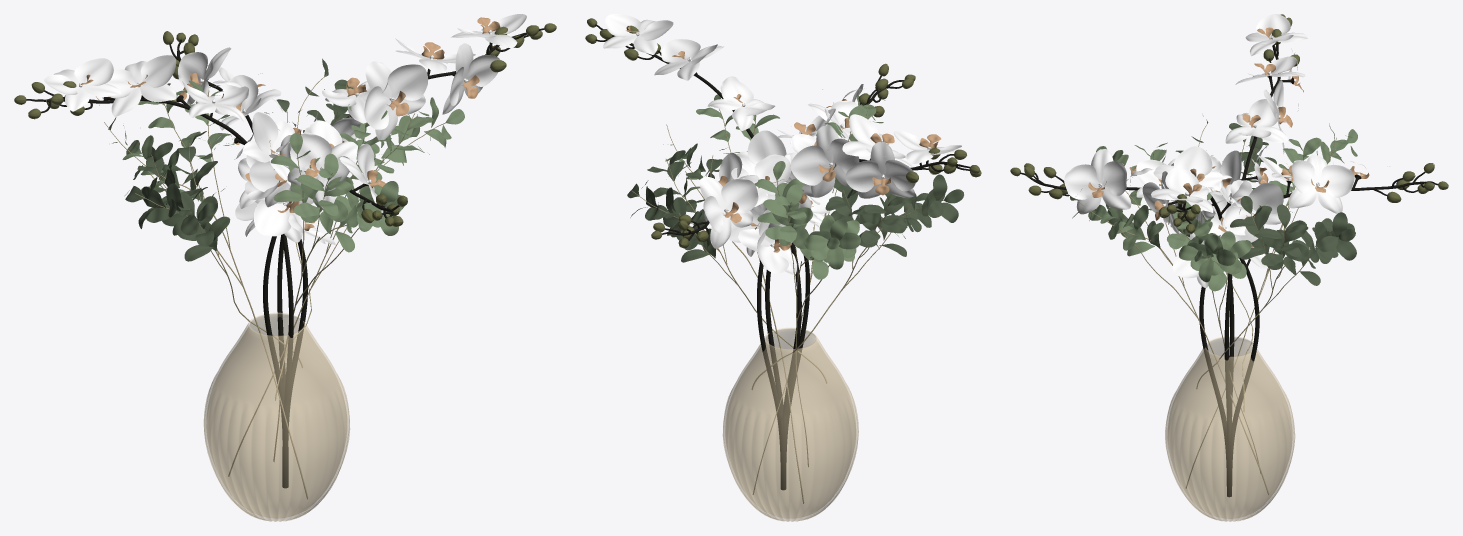
File: bouquet_1734803135521.glb
3 renders of one model, left to right at view 1: azimuth 30°, elevation 25°; view 2: azimuth 150°, elevation 25°; view 3: azimuth 270°, elevation 25°, orthographic. The views are drawn at different scales.
Size of the model in its own units: 3.21 by 2.98 by 2.85.
